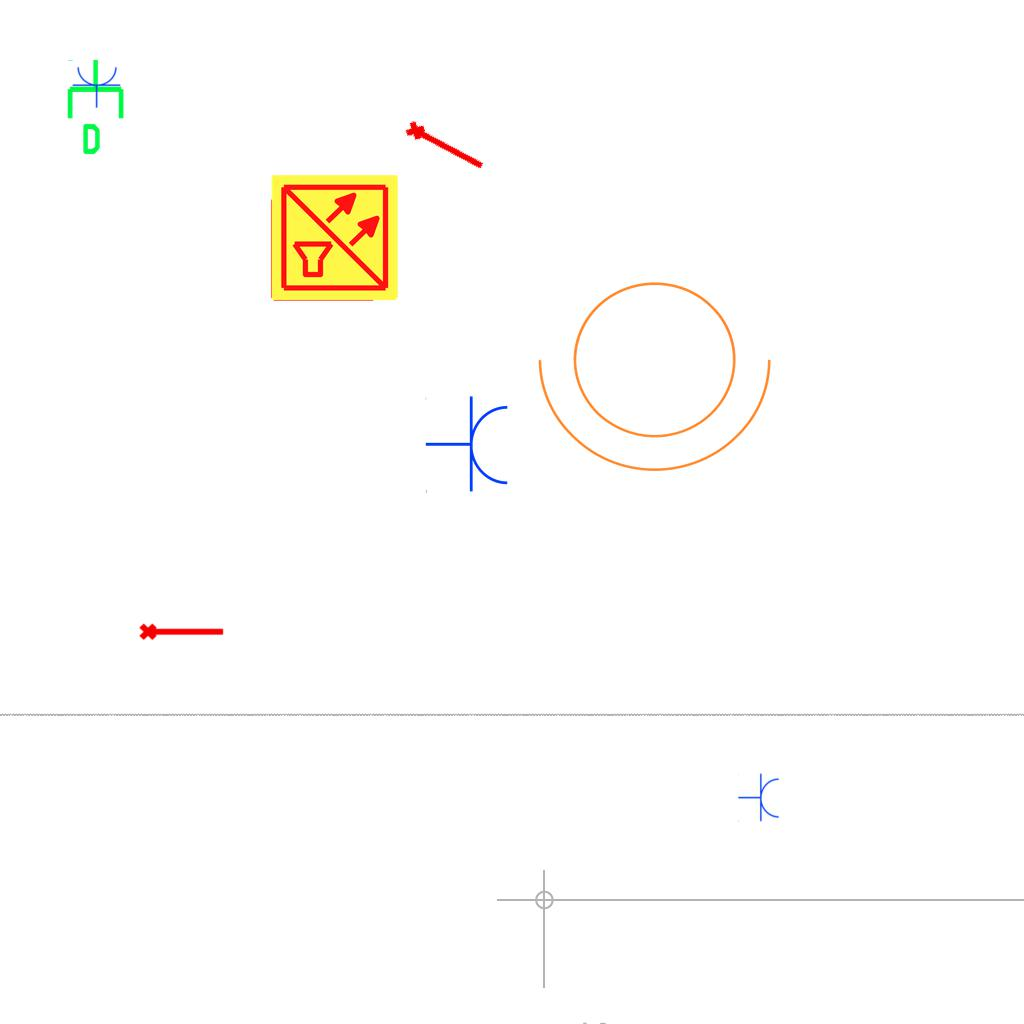ASR_Ansaugoeffnung: (401, 114, 491, 177), (138, 619, 226, 642)
Datenanschluss_einfach: (63, 57, 132, 157)
OKW_Multisensormelder_(Kombination_optischer_Rauch-Kahlenmonoxid_Waerme-Melder): (269, 172, 401, 304)
Scheinwerfer_fuer_Alarmbeleuchtung: (529, 257, 793, 482)
Schukosteckdose_einfach: (425, 395, 512, 495), (738, 773, 781, 823), (72, 65, 122, 108)
